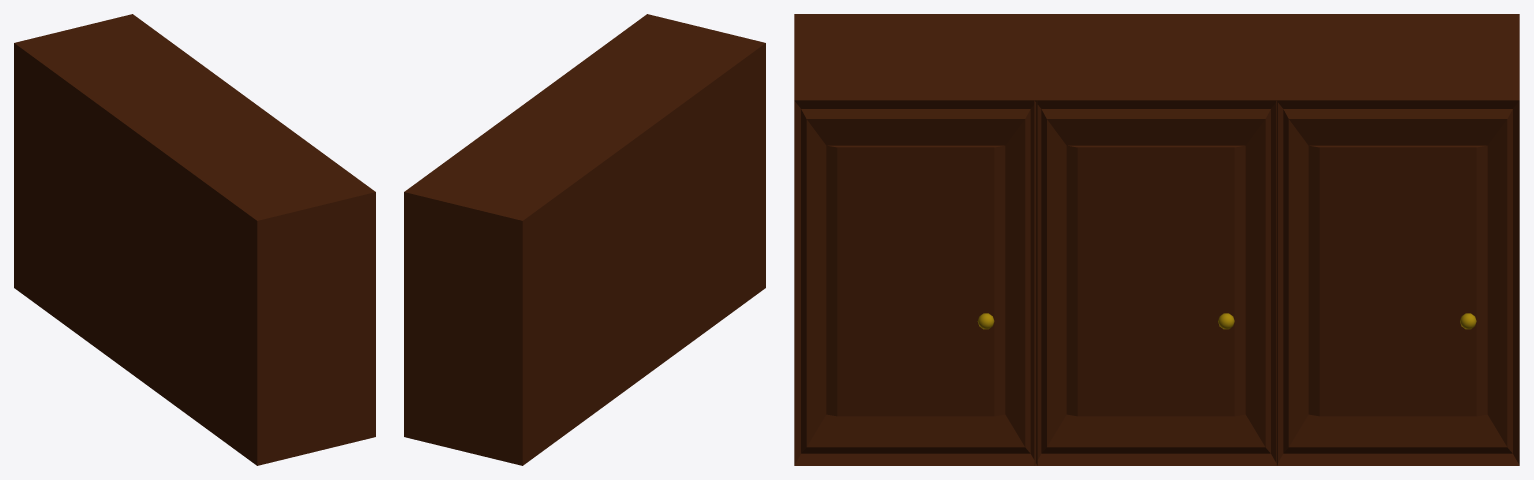
File: CabinetGroup.obj
The picture shows the model from 3 angles, left to right: view 1: azimuth 30°, elevation 25°; view 2: azimuth 150°, elevation 25°; view 3: azimuth 270°, elevation 25°; orthographic projection. The views are drawn at different scales.
Visible parts, largest first — view 1: Cube.003_Cube.006; view 2: Cube.003_Cube.006; view 3: Cube.003_Cube.006.
Part boxes in pixels (box(x1,y1,x2,y2)): Cube.003_Cube.006: box(14, 14, 375, 465); Cube.003_Cube.006: box(404, 14, 765, 465); Cube.003_Cube.006: box(794, 14, 1519, 465).
Bounding box in the file's own units: 1.07 × 2 × 3.6.
